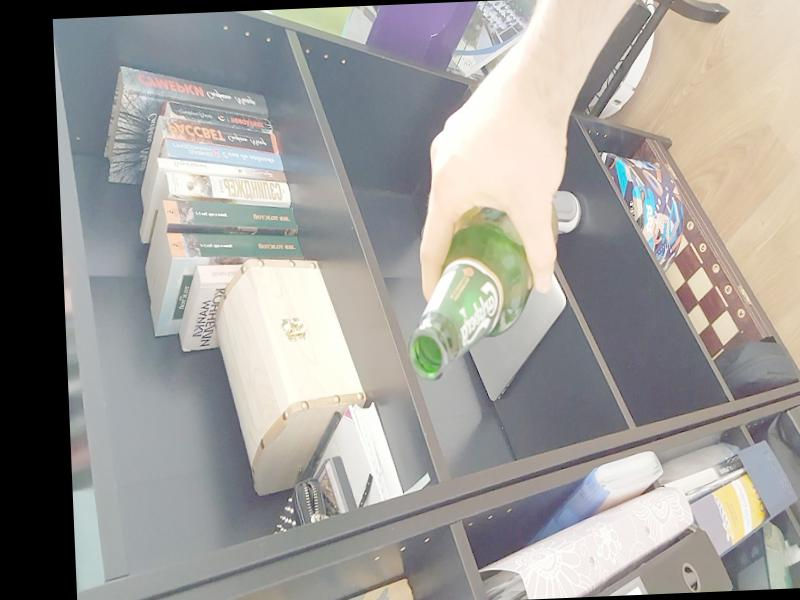Beer: (403, 192, 565, 381)
